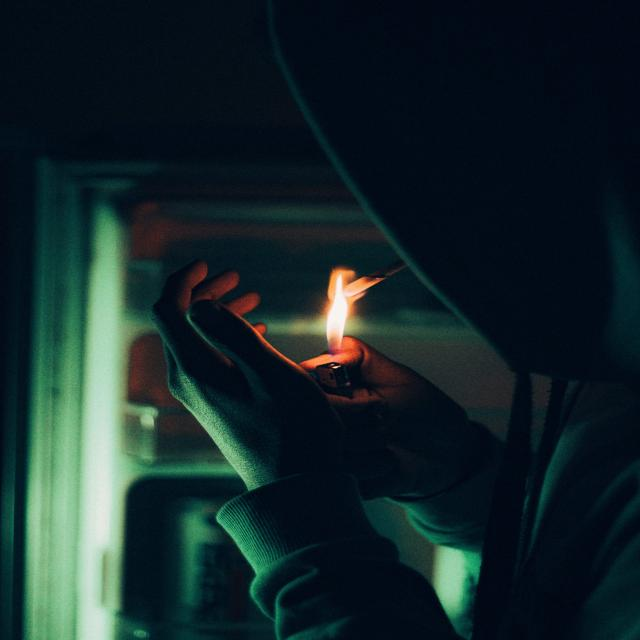fire: (324, 267, 354, 361)
